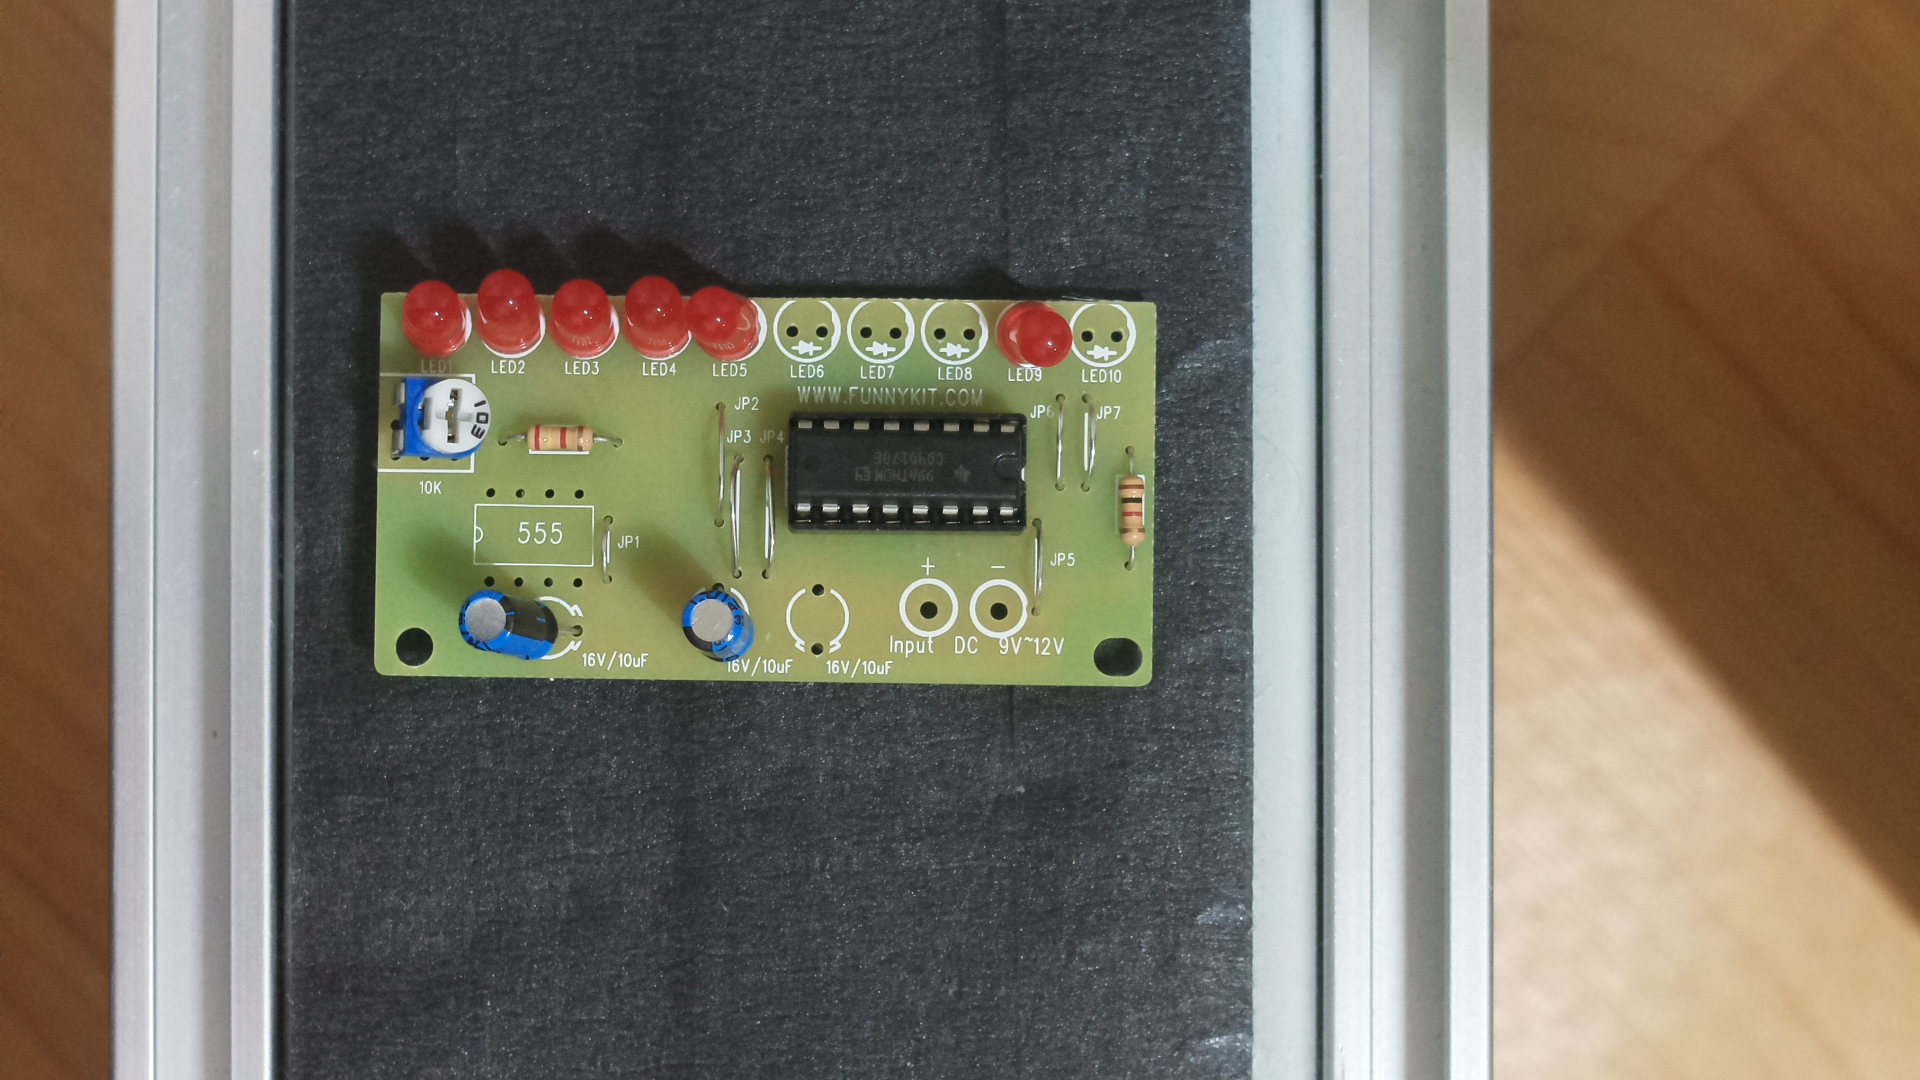B_Missing_part: (367, 258, 1167, 733)
